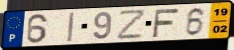6: (26, 13, 50, 45), (186, 7, 205, 37)
9: (92, 11, 112, 40)
F: (151, 7, 181, 38)
I: (66, 11, 76, 43)
Z: (117, 8, 148, 41)
